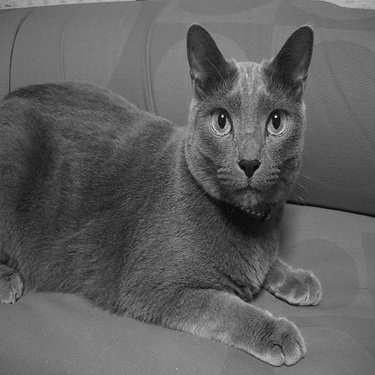cat: (3, 17, 325, 367)
